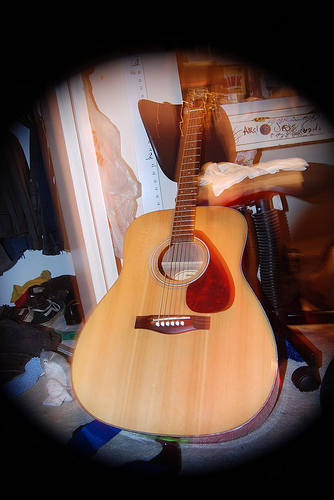guitar: (63, 84, 282, 452)
